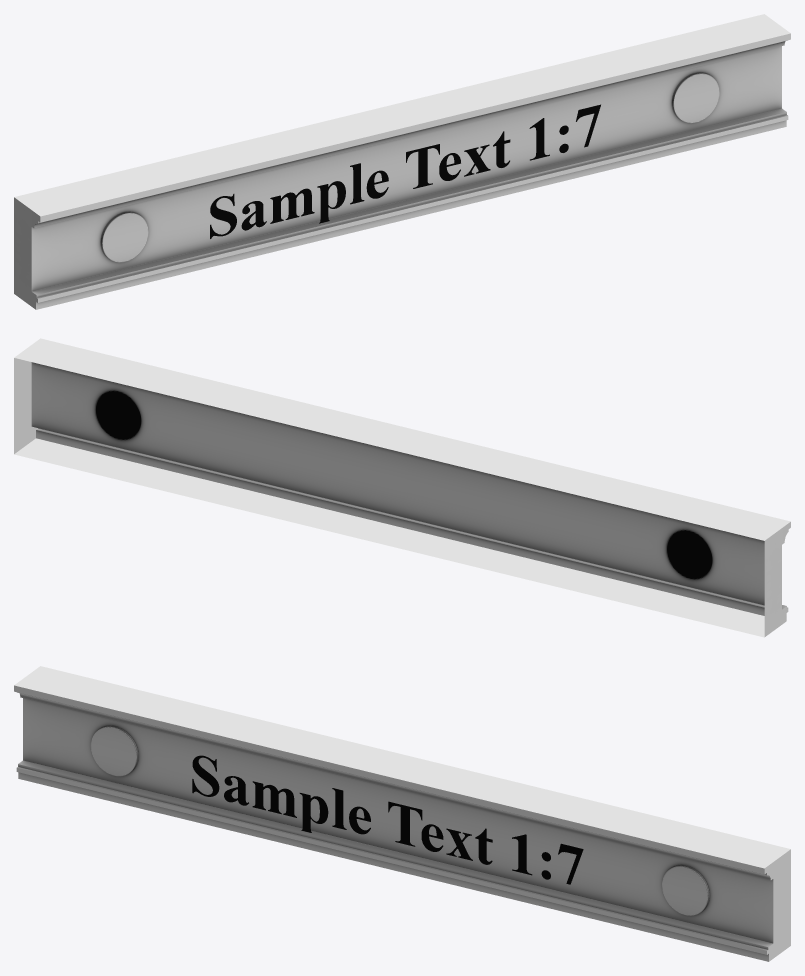
The model's file is name_1.glb.
3 views of the same model, one above another, from view 1: azimuth 30°, elevation 25°; view 2: azimuth 150°, elevation 25°; view 3: azimuth 330°, elevation 25° (orthographic).
Visible parts, largest first — view 1: name_1, name_1_img; view 2: name_1; view 3: name_1, name_1_img.
Boxes of the visible parts, bbox=[...] form: name_1: bbox=[14, 14, 790, 309]; name_1_img: bbox=[210, 104, 600, 238]; name_1: bbox=[14, 338, 790, 637]; name_1: bbox=[14, 666, 790, 961]; name_1_img: bbox=[192, 755, 583, 884].
Bounding box in the file's own units: 6.5 × 0.8 × 0.3975.
Materials: 2 (2 with a texture image).
